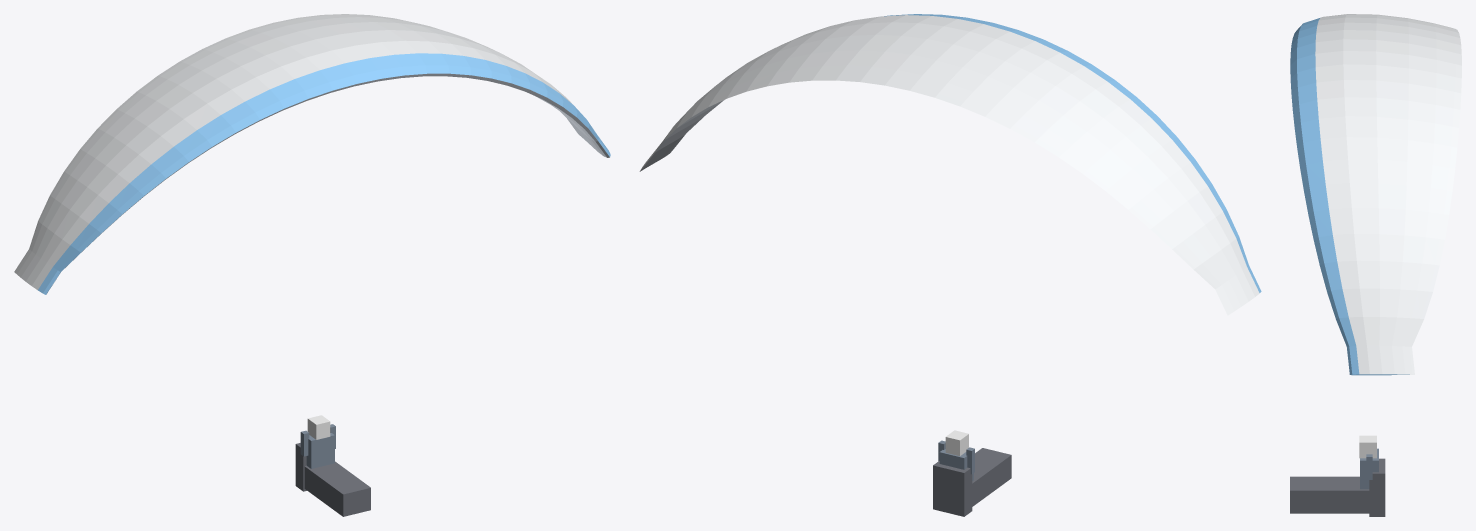
File: paraglider.glb
3 renders of one model, left to right at view 1: azimuth 30°, elevation 25°; view 2: azimuth 150°, elevation 25°; view 3: azimuth 270°, elevation 25°, orthographic. The views are drawn at different scales.
Visible parts, largest first — view 1: paraglider; view 2: paraglider; view 3: paraglider.
Boxes of the visible parts, <box> form: paraglider: <box>14,14,610,516</box>; paraglider: <box>639,14,1261,516</box>; paraglider: <box>1290,14,1461,516</box>.
Bounding box in the file's own units: 10.68 × 7.96 × 2.7.
